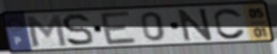0: (139, 10, 169, 43)
C: (213, 6, 248, 40)
E: (98, 10, 140, 47)
M: (23, 13, 69, 49)
N: (176, 7, 215, 43)
S: (60, 12, 96, 48)
